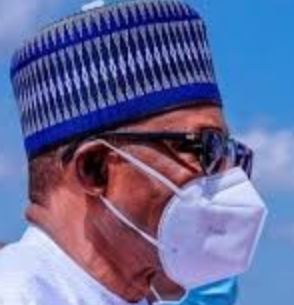with_facemask: (162, 167, 278, 299)
